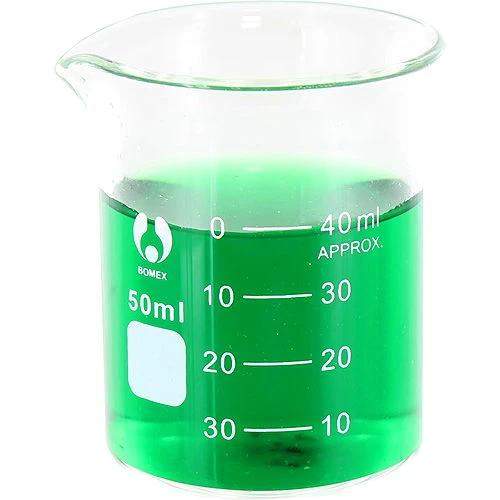Beaker: (44, 1, 442, 497)
